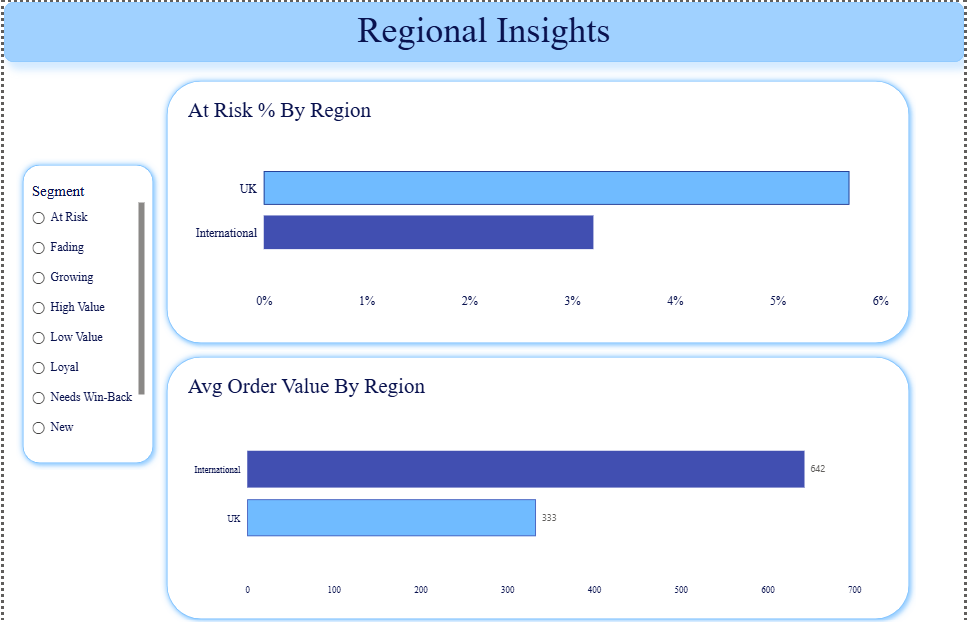

Layout of this report page (visuals, bound fields, positions):
{"tool":"powerbi","page":{"name":"Regional Insights","canvas":[1280,831],"ordinal":3},"visuals":[{"type":"shape","box":[208,463,1008,368],"z":0},{"type":"shape","box":[208,96,1008,368],"z":1000},{"type":"clusteredBarChart","title":"At Risk % By Region","fields":{"Category":["public sub_division_1.region"],"Y":["public sub_division_1.At Risk %"]},"box":[240,128,944,288],"z":2000},{"type":"clusteredBarChart","title":"Avg Order Value By Region","fields":{"Category":["public invoice_details.Region"],"Y":["public invoice_details.Avg Order Value"]},"box":[240,496,944,304],"z":3000},{"type":"shape","box":[16,208,192,416],"z":4000},{"type":"listSlicer","title":"Segment","fields":{"Values":["public rfm_scored.segment"]},"box":[32,240,160,352],"z":5000},{"type":"textbox","box":[0,0,1280,80],"z":6000}]}

Visuals, with their boxes in screenshot pixels (x1, y1, x2, y2), scaled from the page's 1280x831 canvas onto the 969x622 screenshot:
shape: (left=157, top=347, right=921, bottom=621)
shape: (left=157, top=72, right=921, bottom=347)
"At Risk % By Region" clusteredBarChart: (left=182, top=96, right=896, bottom=311)
"Avg Order Value By Region" clusteredBarChart: (left=182, top=371, right=896, bottom=599)
shape: (left=12, top=156, right=157, bottom=467)
"Segment" listSlicer: (left=24, top=180, right=145, bottom=443)
textbox: (left=0, top=0, right=968, bottom=60)
